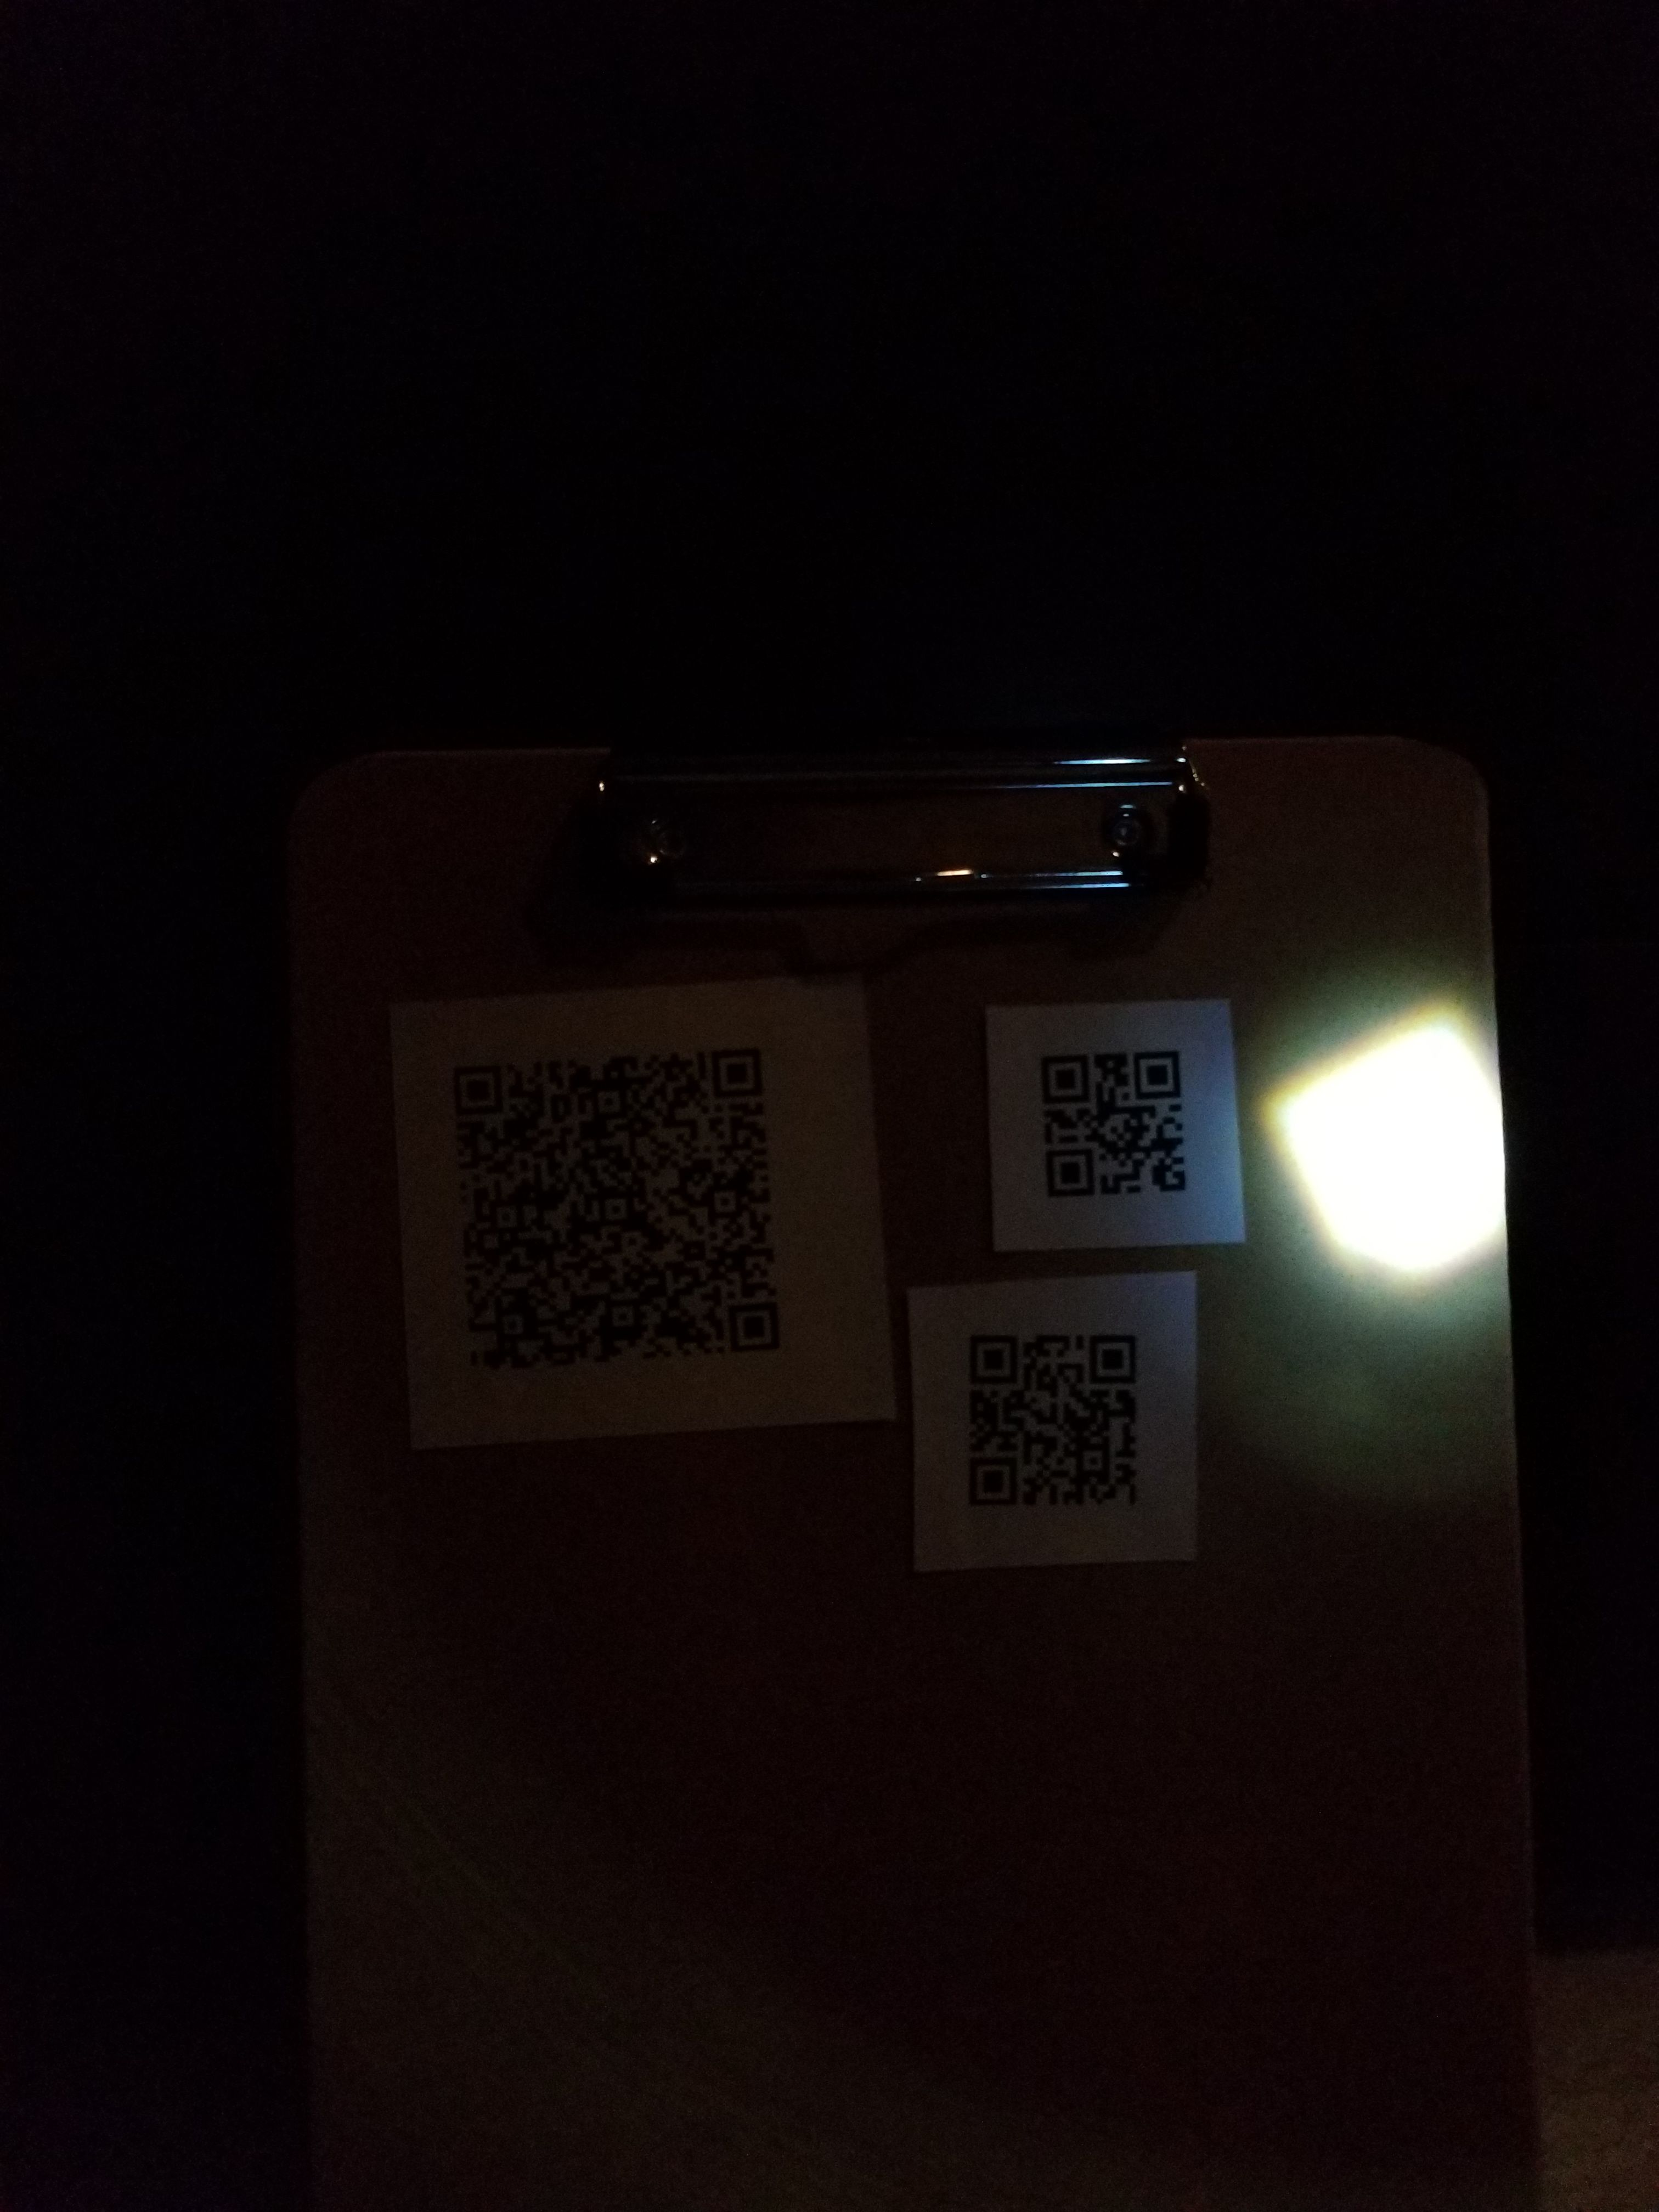QR_CODE: (413, 1007, 802, 1402), (936, 1303, 1168, 1541), (1011, 1007, 1216, 1226)
